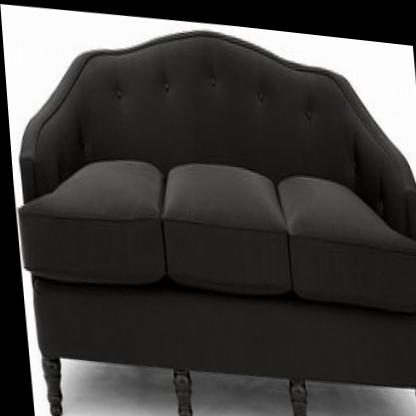Sofa: (0, 2, 416, 416)
